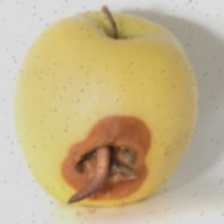apple: (57, 1, 211, 182)
